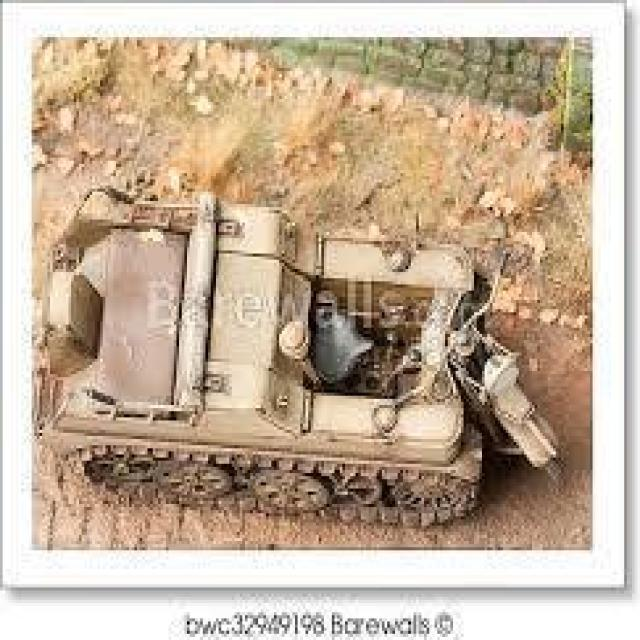Tanks: (43, 154, 480, 532)
